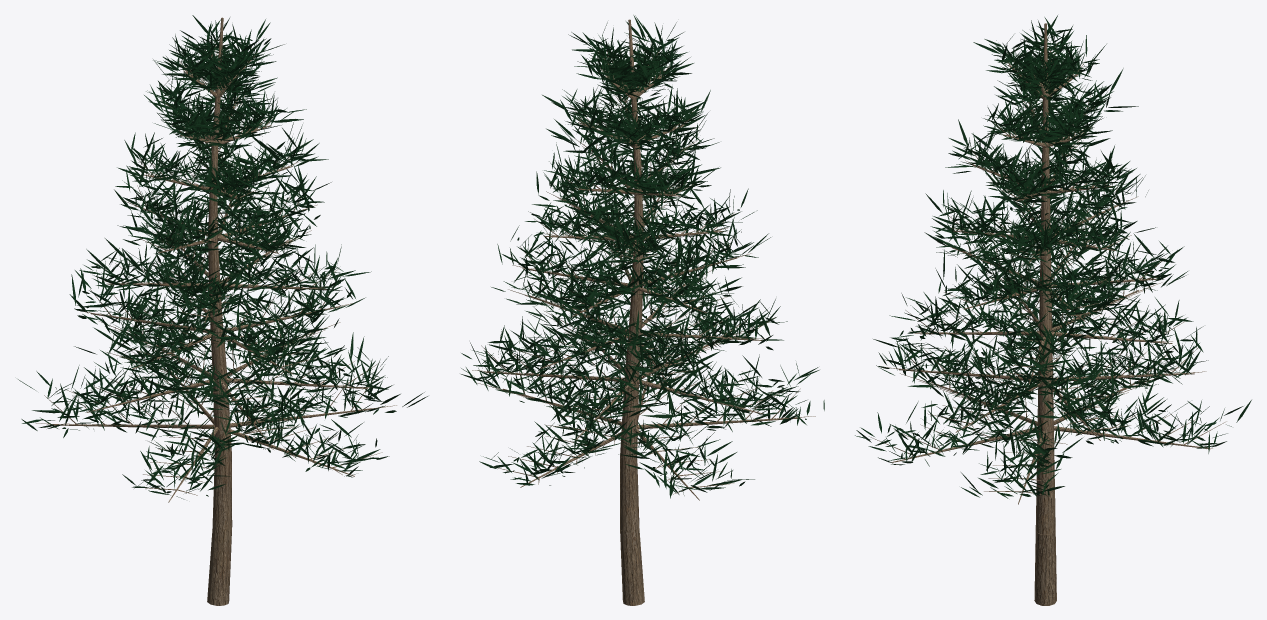
File: pine_1.obj
The picture shows the model from 3 angles, left to right: view 1: azimuth 30°, elevation 25°; view 2: azimuth 150°, elevation 25°; view 3: azimuth 270°, elevation 25°; orthographic projection.
Visible parts, largest first — view 1: Pine_Needles, Tree_Bark; view 2: Pine_Needles, Tree_Bark; view 3: Pine_Needles, Tree_Bark.
Part boxes in pixels (x1,y1,x2,y2): Pine_Needles: (18, 15, 427, 499); Tree_Bark: (36, 17, 396, 605); Pine_Needles: (461, 15, 824, 498); Tree_Bark: (472, 19, 815, 605); Pine_Needles: (855, 15, 1251, 498); Tree_Bark: (869, 23, 1226, 605).
Bounding box in the file's own units: 7.39 × 12.51 × 7.81.
2 materials, 1 textured.
